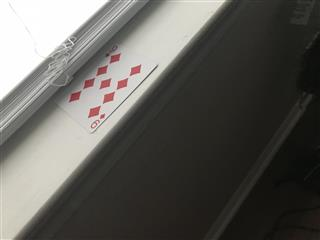NineOfDiamonds: (53, 42, 158, 133)
